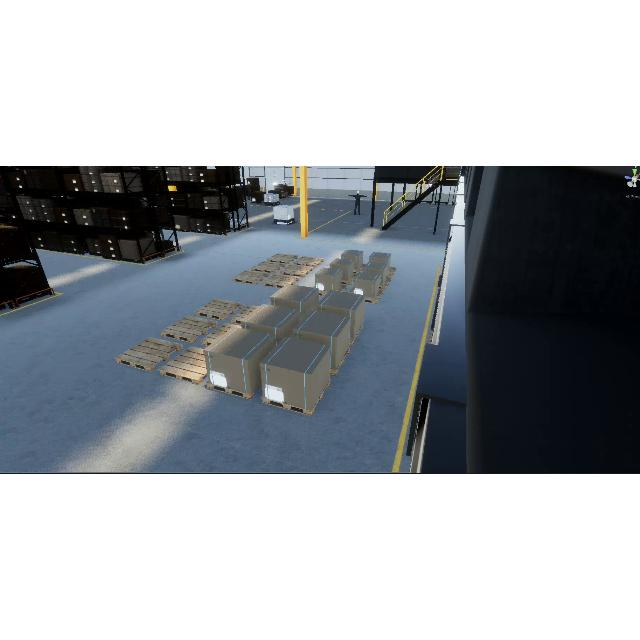wooden_pallet: (261, 378, 332, 416), (115, 337, 183, 372), (159, 345, 208, 385), (161, 316, 218, 343), (194, 298, 244, 320), (206, 380, 255, 399), (329, 347, 351, 375)
